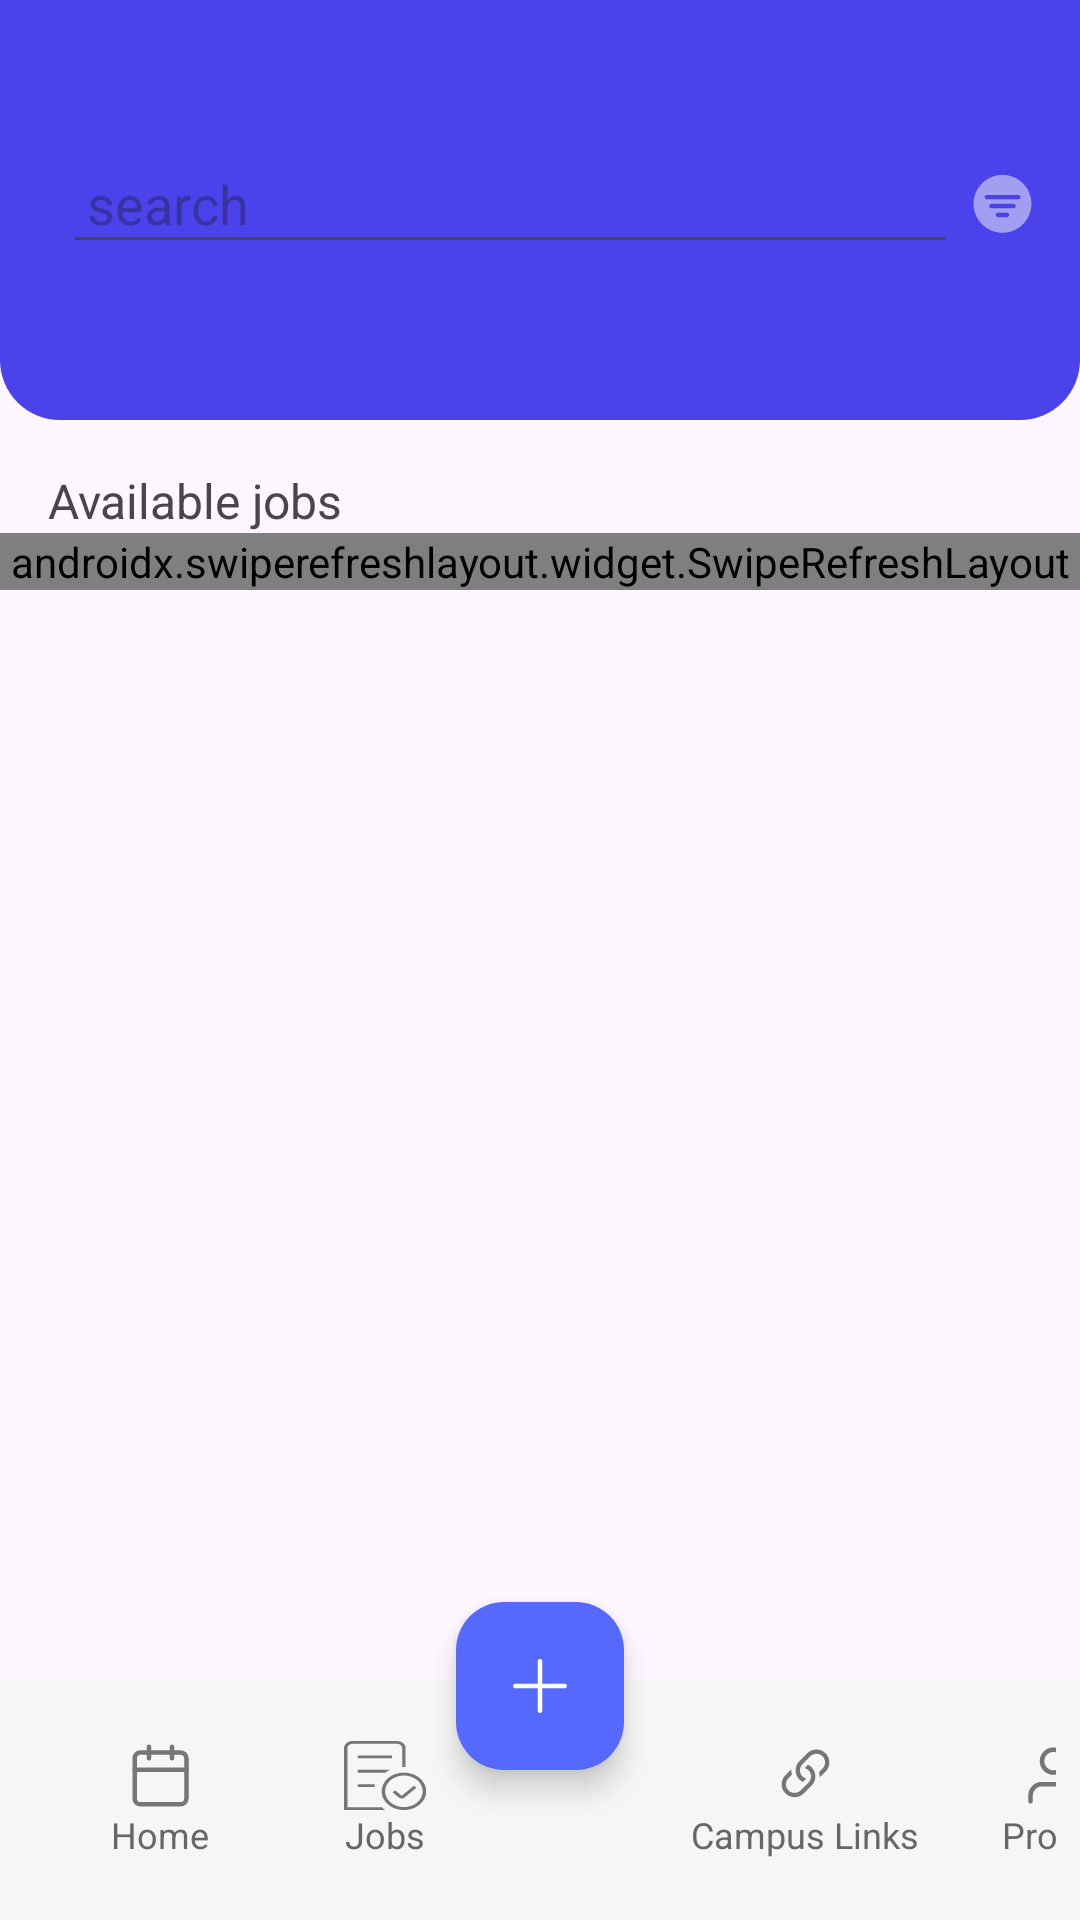

Icons on this 1080px x 1920px Android screen, each with its box as (x1, y1, x2, y2):
events: (132, 1744, 189, 1807)
Filter: (973, 175, 1032, 233)
plus: (456, 1602, 624, 1770)
